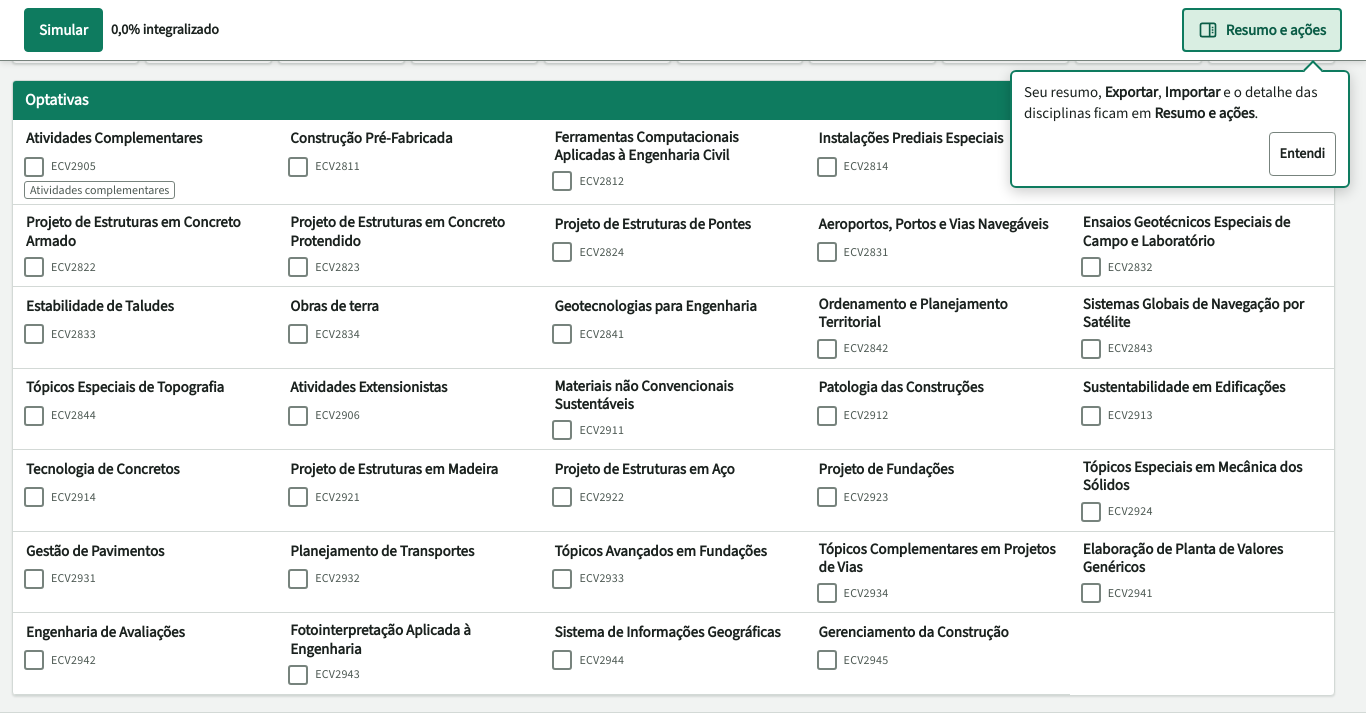
Test: modo relações › mostra bloqueio e alerta no detalhe
(page scrolled)
Click the button "Planejamento de Transportes" at (411, 551), box [288,537,533,565]
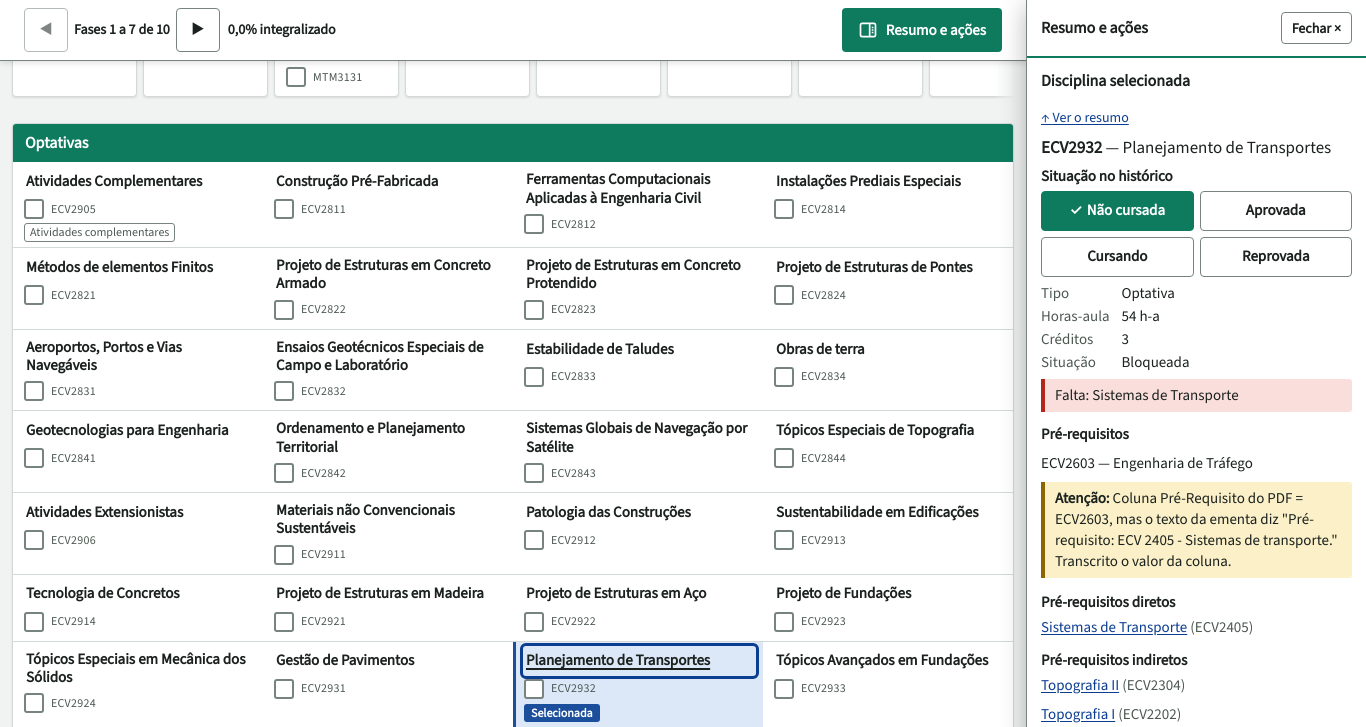
Check: the text with test id "situacao" reads "Bloqueada", box [1122,352,1189,372]
Check: the text "Falta: Sistemas de Transporte" is shown, box [1055,385,1239,405]
Check: the element that starts with "Atenção:" shows "ECV 2405", box [1055,488,1338,571]
